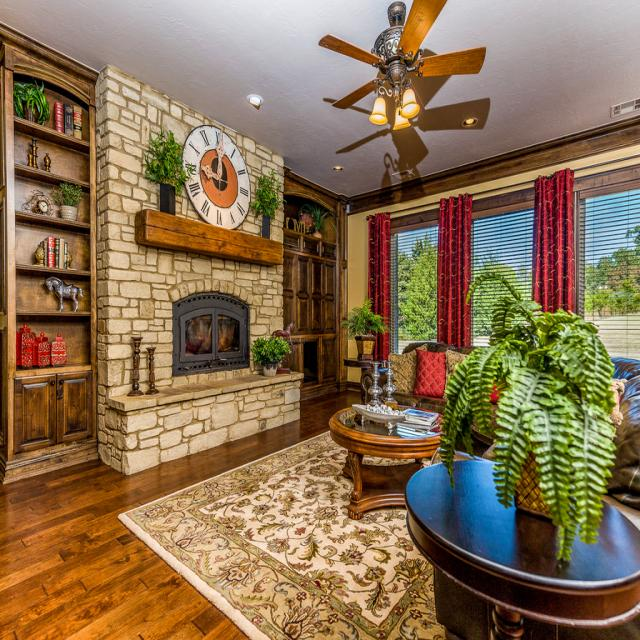Bulb: (318, 0, 486, 131)
